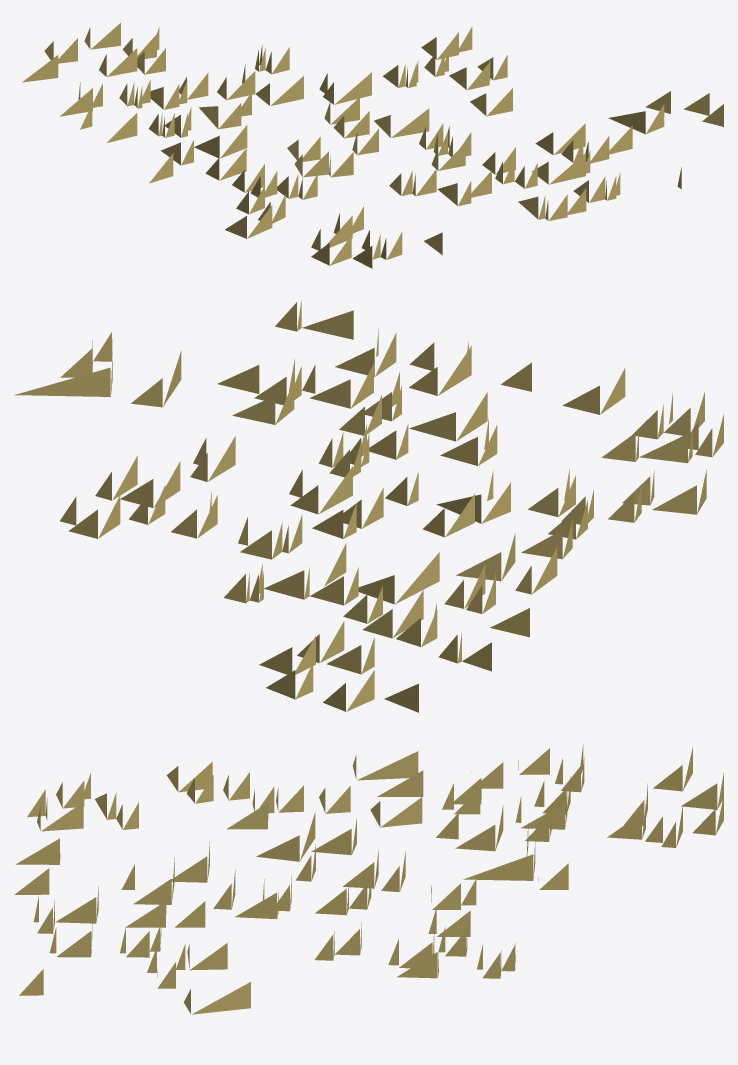
3 views of the same model, one above another, from view 1: azimuth 30°, elevation 25°; view 2: azimuth 150°, elevation 25°; view 3: azimuth 270°, elevation 25° (orthographic). The views are drawn at different scales.
Bounding box in the file's own units: 172 × 7.5 × 181.
